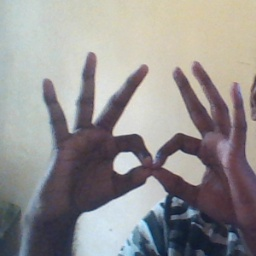B: (97, 106, 215, 207)
